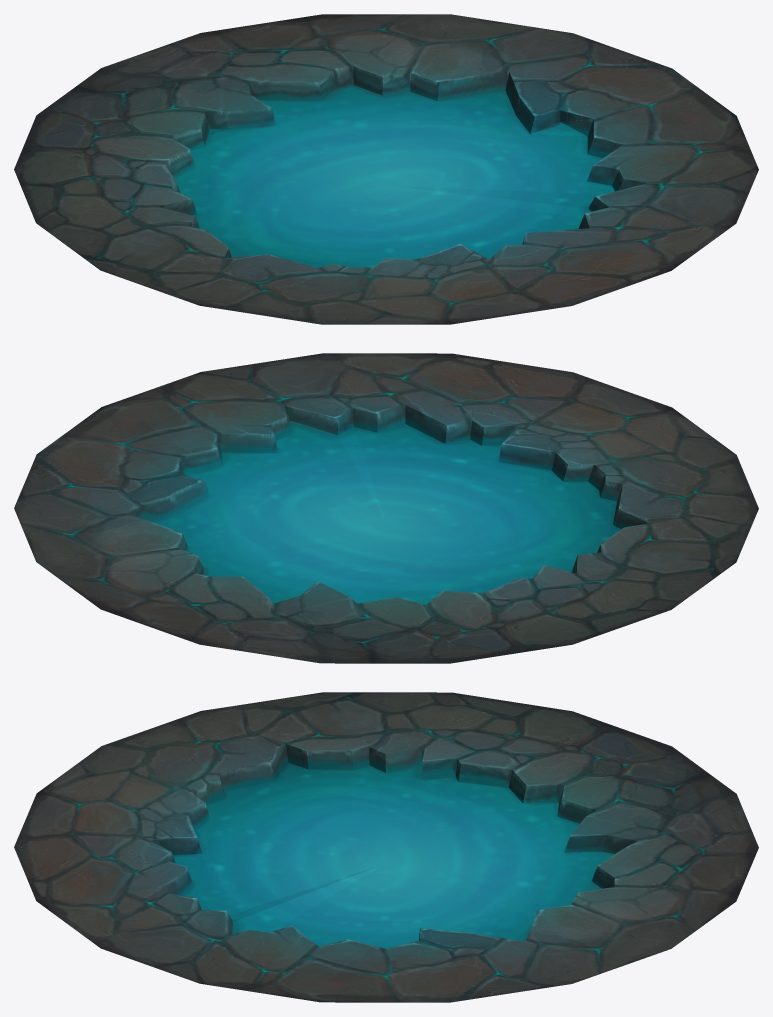
File: dcfx4_yuantai_03_n.FBX
3 views of the same model, one above another, from view 1: azimuth 30°, elevation 25°; view 2: azimuth 150°, elevation 25°; view 3: azimuth 270°, elevation 25° (orthographic).
Visible parts, largest first — view 1: dcfx4_yuantai_03; view 2: dcfx4_yuantai_03; view 3: dcfx4_yuantai_03.
Part boxes in pixels (<box>): dcfx4_yuantai_03: <box>14,14,758,324</box>; dcfx4_yuantai_03: <box>14,353,758,663</box>; dcfx4_yuantai_03: <box>14,692,758,1002</box>.
Bounding box in the file's own units: 439 × 10.84 × 446.
